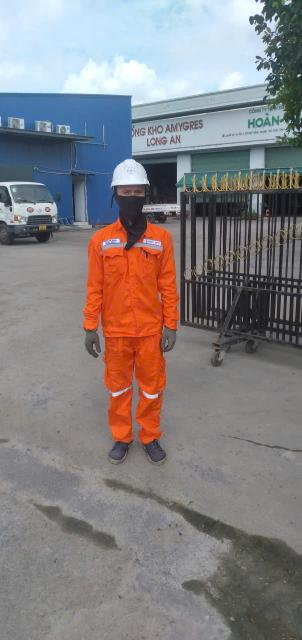gloves: (72, 320, 106, 361), (156, 319, 183, 358)
helmet: (101, 154, 157, 194)
shoes: (142, 431, 178, 468), (105, 429, 136, 465)
